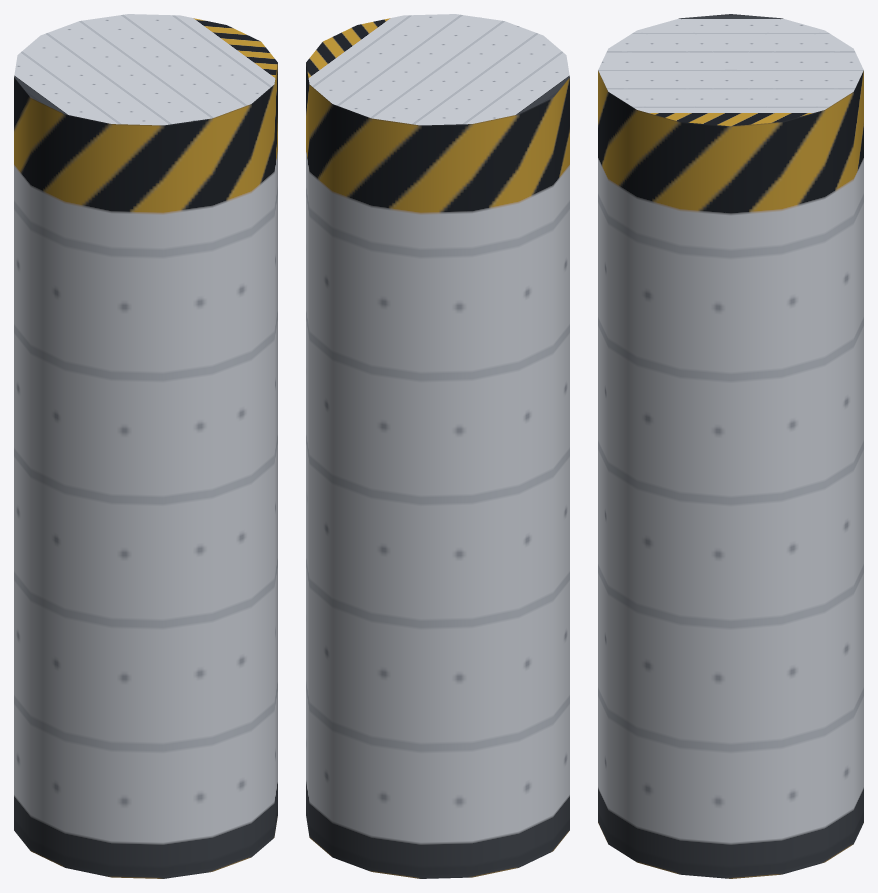
File: srb-large_s1-srb-kd25k.glb
3 renders of one model, left to right at view 1: azimuth 30°, elevation 25°; view 2: azimuth 150°, elevation 25°; view 3: azimuth 270°, elevation 25°, orthographic.
Parts seen in each view (by area): view 1: S1 SRB-KD25k; view 2: S1 SRB-KD25k; view 3: S1 SRB-KD25k.
Part boxes in pixels (x1,y1,x2,y2): S1 SRB-KD25k: [14, 14, 277, 878]; S1 SRB-KD25k: [306, 14, 569, 878]; S1 SRB-KD25k: [598, 14, 863, 878].
Bounding box in the file's own units: 1.6 × 5 × 1.6.
Materials: 1 (1 with a texture image).
